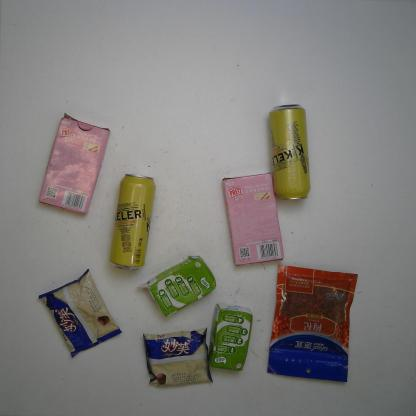Alcohol: (104, 172, 162, 272), (264, 103, 319, 203)
Dessert: (35, 112, 115, 218), (31, 269, 123, 356), (219, 173, 288, 267), (142, 329, 218, 392)
Dried Fruit: (263, 260, 369, 387)
Milk: (143, 252, 220, 314), (204, 303, 256, 374)
